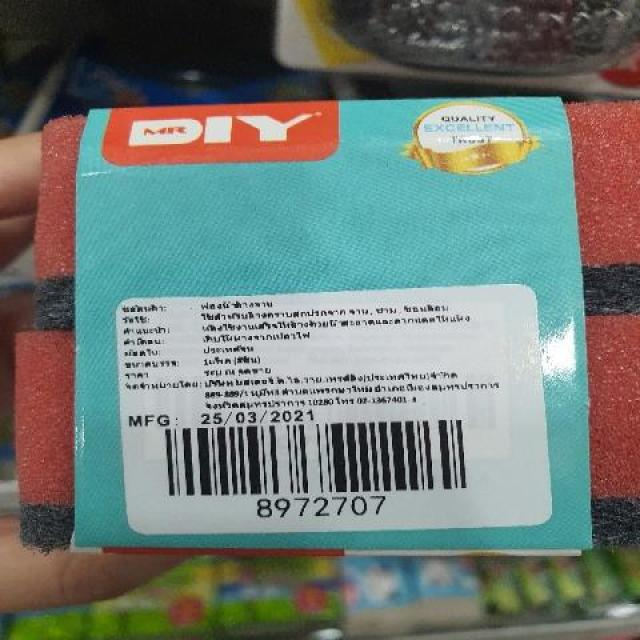Barcode: (152, 413, 489, 520)
